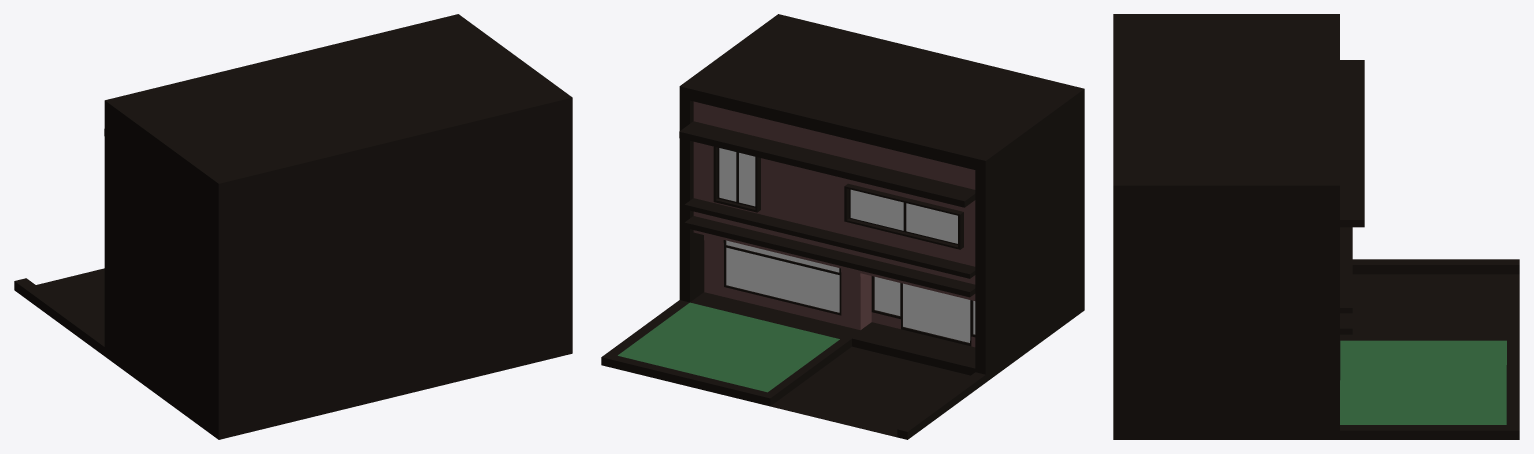
File: rumah gede.fbx
The picture shows the model from 3 angles, left to right: view 1: azimuth 30°, elevation 25°; view 2: azimuth 150°, elevation 25°; view 3: azimuth 270°, elevation 25°; orthographic projection. The views are drawn at different scales.
Parts seen in each view (by area): view 1: Cube.055; view 2: Cube.055; view 3: Cube.055.
Part boxes in pixels (<box>): Cube.055: <box>14,14,572,439</box>; Cube.055: <box>601,14,1084,439</box>; Cube.055: <box>1113,14,1519,439</box>.
Bounding box in the file's own units: 3719 × 2573 × 3722.
